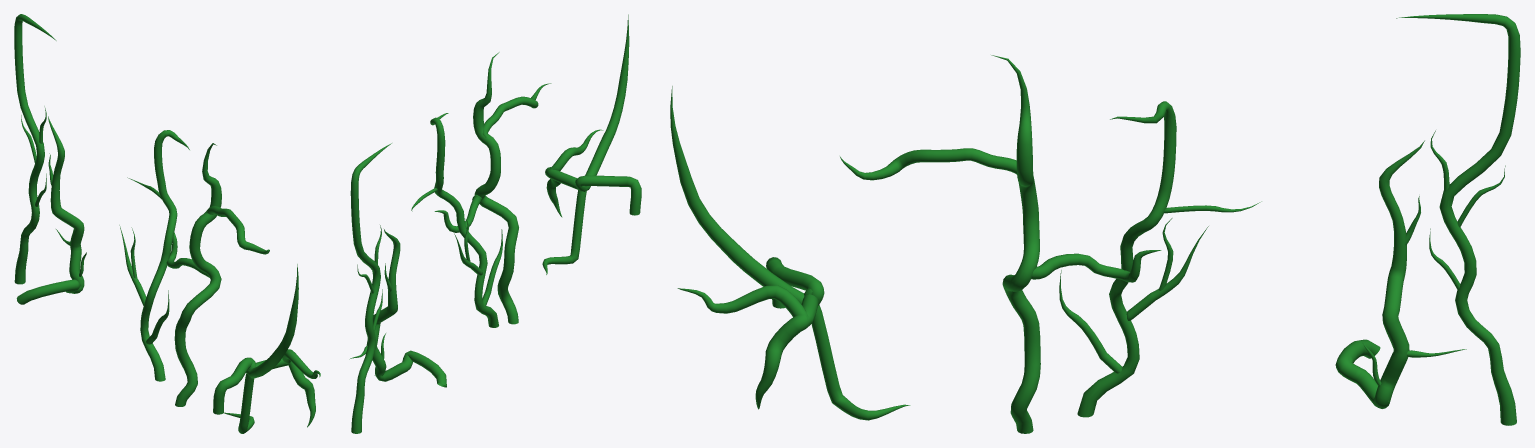
The model's file is Vines2.fbx.
The picture shows the model from 3 angles, left to right: view 1: azimuth 30°, elevation 25°; view 2: azimuth 150°, elevation 25°; view 3: azimuth 270°, elevation 25°; orthographic projection. The views are drawn at different scales.
Parts seen in each view (by area): view 1: BezierCurve; view 2: BezierCurve; view 3: BezierCurve.
Boxes of the visible parts, box(x1,y1,x2,y2) form: BezierCurve: box(14, 14, 320, 433); BezierCurve: box(349, 14, 641, 433); BezierCurve: box(670, 14, 1520, 433).
Bounding box in the file's own units: 189 × 510 × 946.
